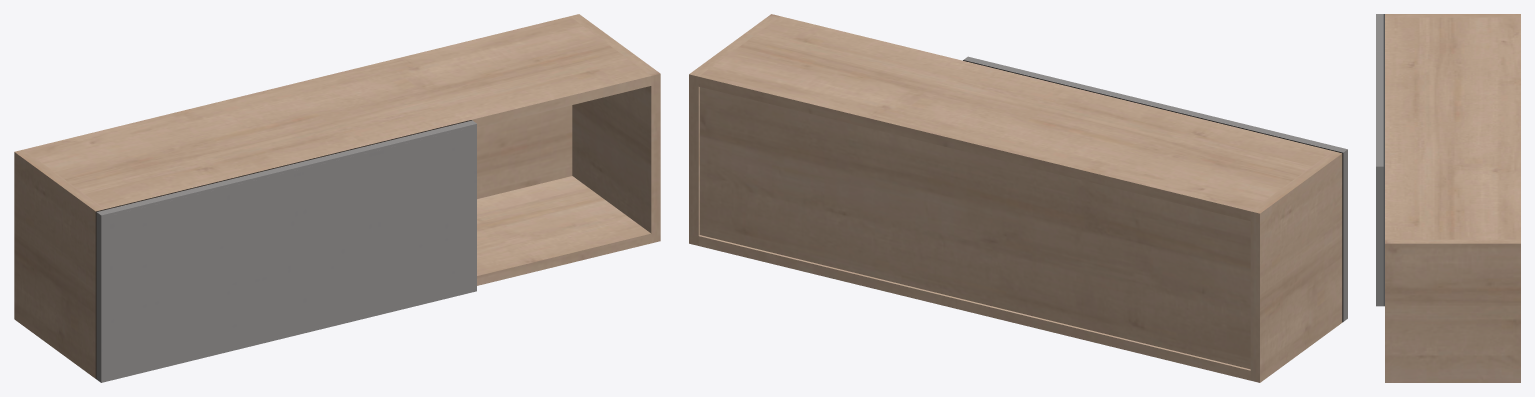
File: 2119_69_KLAL.gltf
The picture shows the model from 3 angles, left to right: view 1: azimuth 30°, elevation 25°; view 2: azimuth 150°, elevation 25°; view 3: azimuth 270°, elevation 25°; orthographic projection. The views are drawn at different scales.
Visible parts, largest first — view 1: Mesh10_Agrupar_10_Model001, Mesh10_Agrupar_10_Model000, Mesh10_Agrupar_10_Model002; view 2: Mesh10_Agrupar_10_Model001, Mesh10_Agrupar_10_Model000, Mesh10_Agrupar_10_Model002; view 3: Mesh10_Agrupar_10_Model001, Mesh10_Agrupar_10_Model000, Mesh10_Agrupar_10_Model002.
Boxes of the visible parts, left/top/right/bottom form: Mesh10_Agrupar_10_Model001: left=14, top=14, right=660, bottom=378; Mesh10_Agrupar_10_Model000: left=96, top=120, right=476, bottom=382; Mesh10_Agrupar_10_Model002: left=95, top=120, right=471, bottom=379; Mesh10_Agrupar_10_Model001: left=689, top=14, right=1342, bottom=382; Mesh10_Agrupar_10_Model000: left=963, top=56, right=1347, bottom=321; Mesh10_Agrupar_10_Model002: left=963, top=60, right=1343, bottom=322; Mesh10_Agrupar_10_Model001: left=1385, top=14, right=1520, bottom=382; Mesh10_Agrupar_10_Model000: left=1376, top=14, right=1383, bottom=306; Mesh10_Agrupar_10_Model002: left=1383, top=14, right=1384, bottom=306.
Size of the model in its own units: 2.4 by 0.68 by 0.6402.
3 materials, 2 textured.
